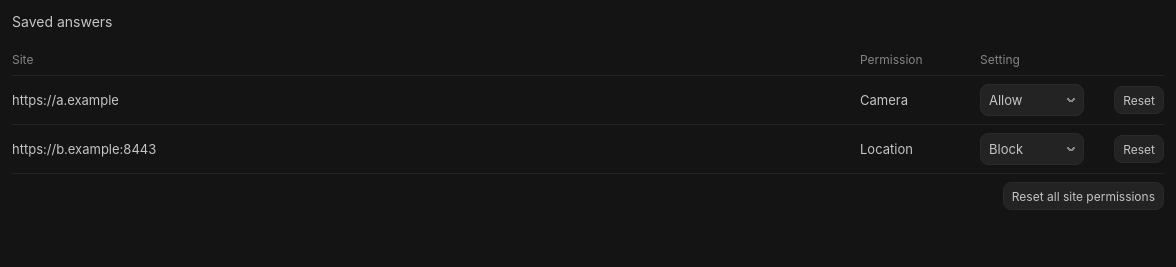
Test case: keeps the list and reports a failed save
Select "Block" in the dropdown named "Camera for https://a.example" at (1032, 100), box x1=980 y1=84 x2=1084 y2=116
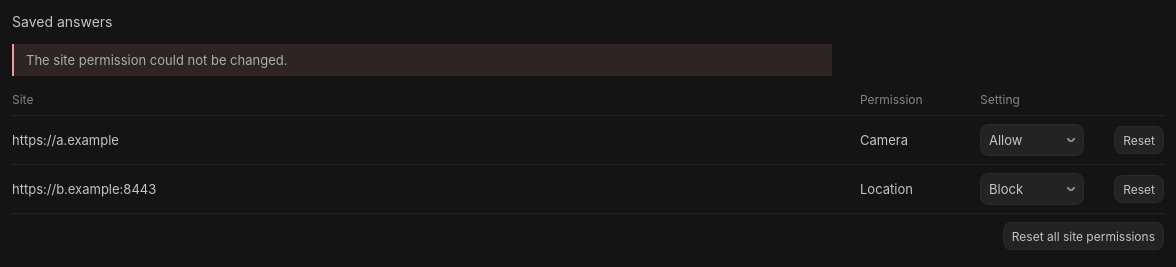
expect the dropdown named "Camera for https://a.example" is enabled: met, box x1=980 y1=124 x2=1084 y2=156
expect the message reads "The site permission could not be changed.": met, box x1=26 y1=52 x2=288 y2=68
